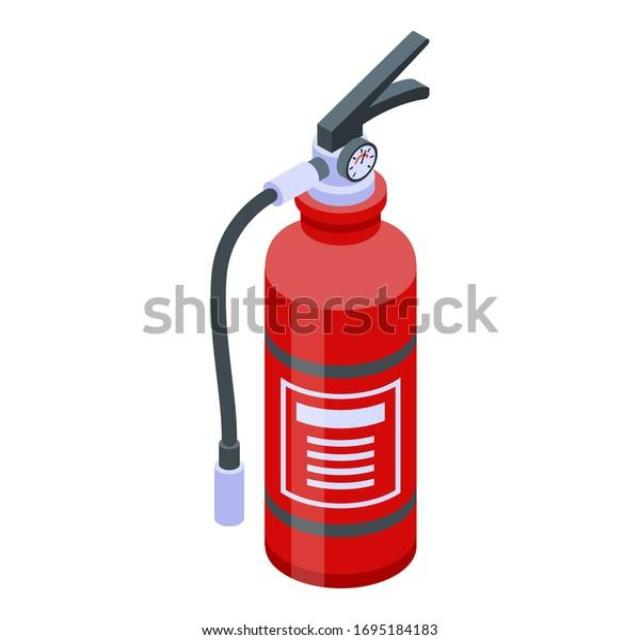fire_extinguisher: (198, 24, 440, 592)
